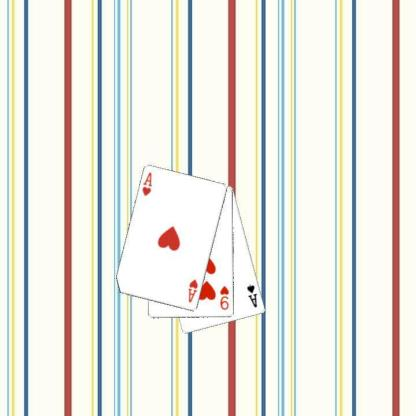9H: (218, 284, 230, 311)
AH: (186, 277, 200, 304), (140, 170, 154, 197)
AS: (244, 282, 258, 309)
